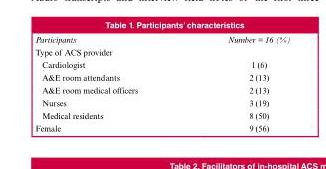table: (34, 34, 289, 132)
table column: (34, 34, 182, 132), (182, 34, 289, 132)
table column header: (34, 34, 289, 45)
table projected row header: (34, 45, 289, 57)
table row: (34, 57, 289, 70), (34, 70, 289, 83), (34, 83, 289, 96), (34, 108, 289, 121), (34, 45, 289, 57), (34, 96, 289, 108), (34, 34, 289, 45), (34, 121, 289, 132)
